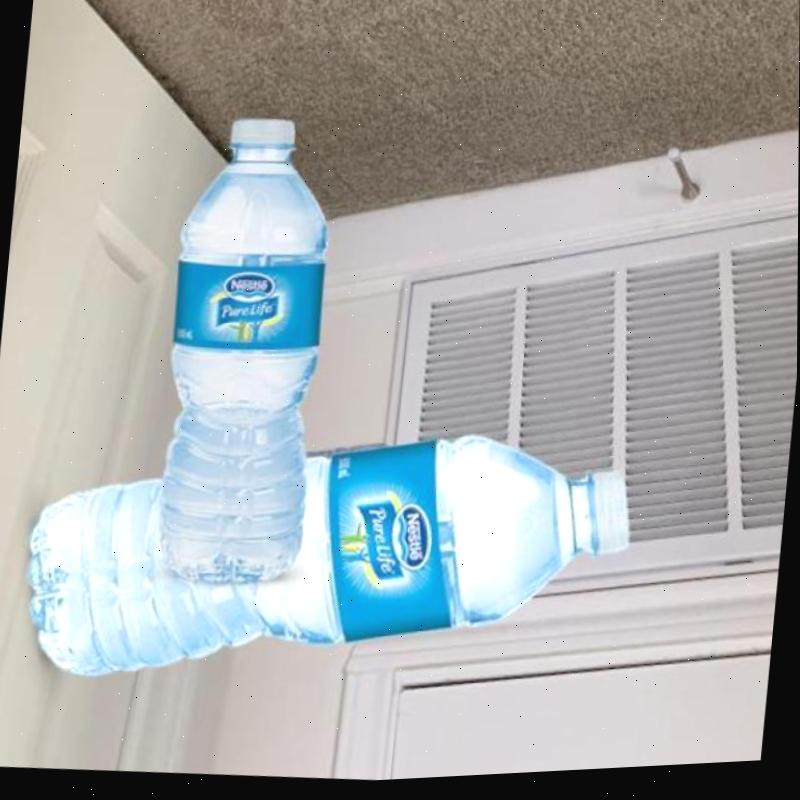botella: (18, 397, 645, 728), (149, 115, 342, 594)
